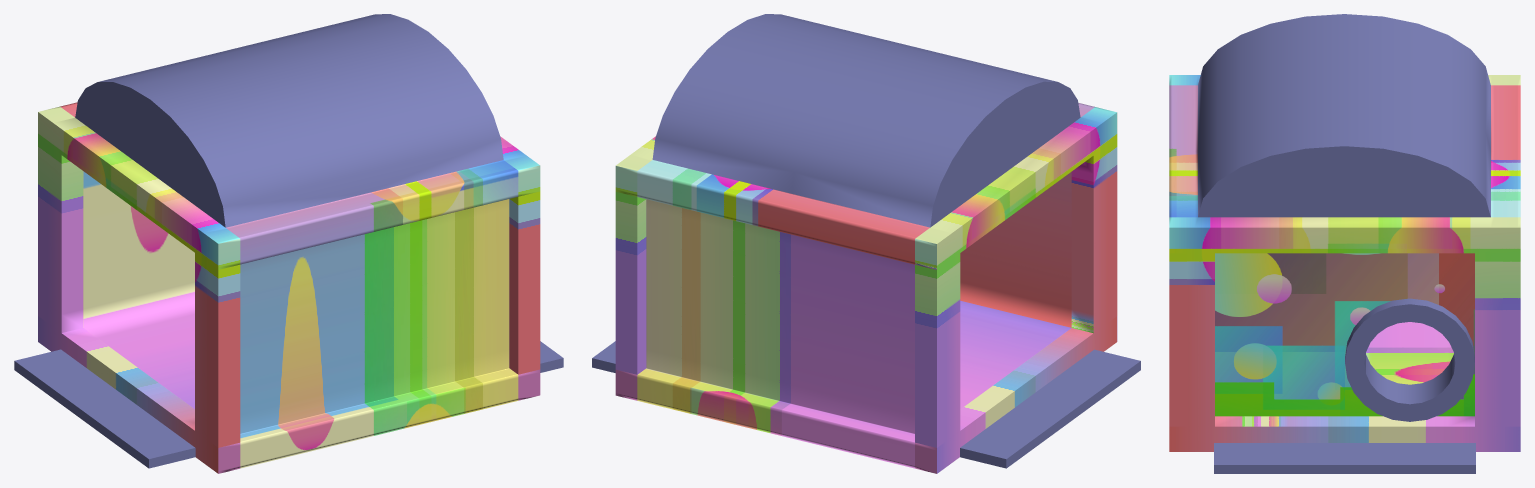
Rendered from sphere_hut.fbx.
3 views of the same model, side by side, from view 1: azimuth 30°, elevation 25°; view 2: azimuth 150°, elevation 25°; view 3: azimuth 270°, elevation 25° (orthographic). The views are drawn at different scales.
Parts seen in each view (by area): view 1: polySurface114; view 2: polySurface114; view 3: polySurface114.
Part boxes in pixels (bbox=[...]): polySurface114: bbox=[14, 14, 563, 473]; polySurface114: bbox=[592, 14, 1140, 473]; polySurface114: bbox=[1169, 14, 1520, 473].
Bounding box in the file's own units: 310 × 216 × 233.
